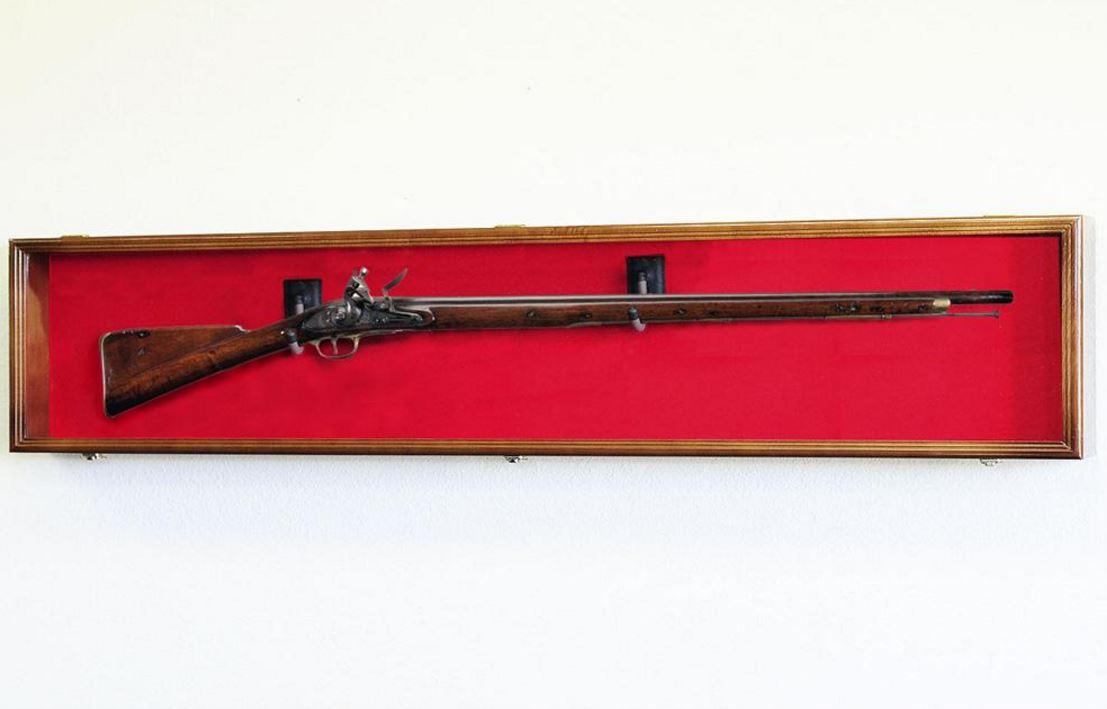rifle: (97, 245, 1021, 420)
